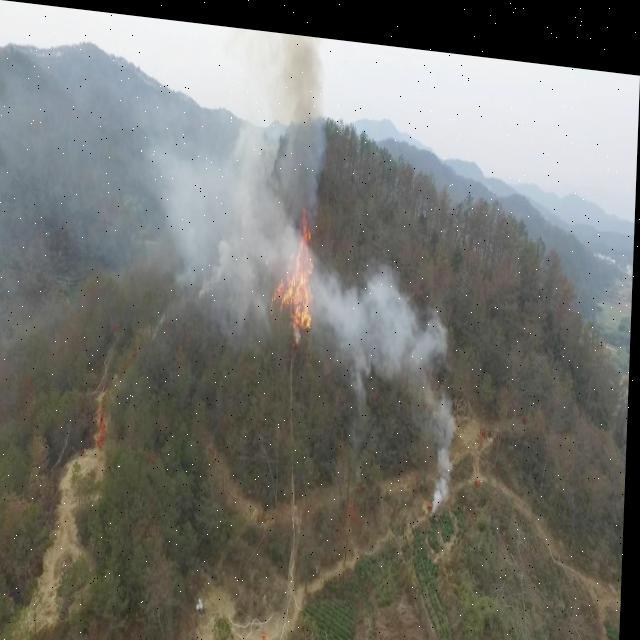Fire: (248, 168, 344, 356)
